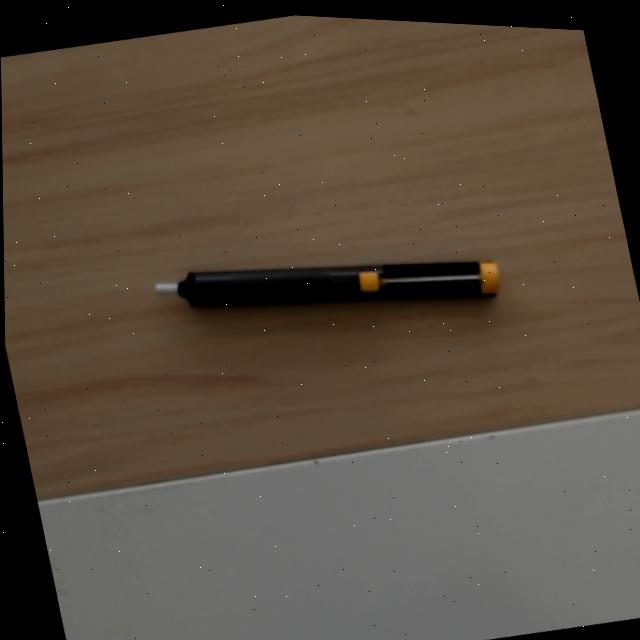Desoldering-Pump: (153, 259, 498, 305)
